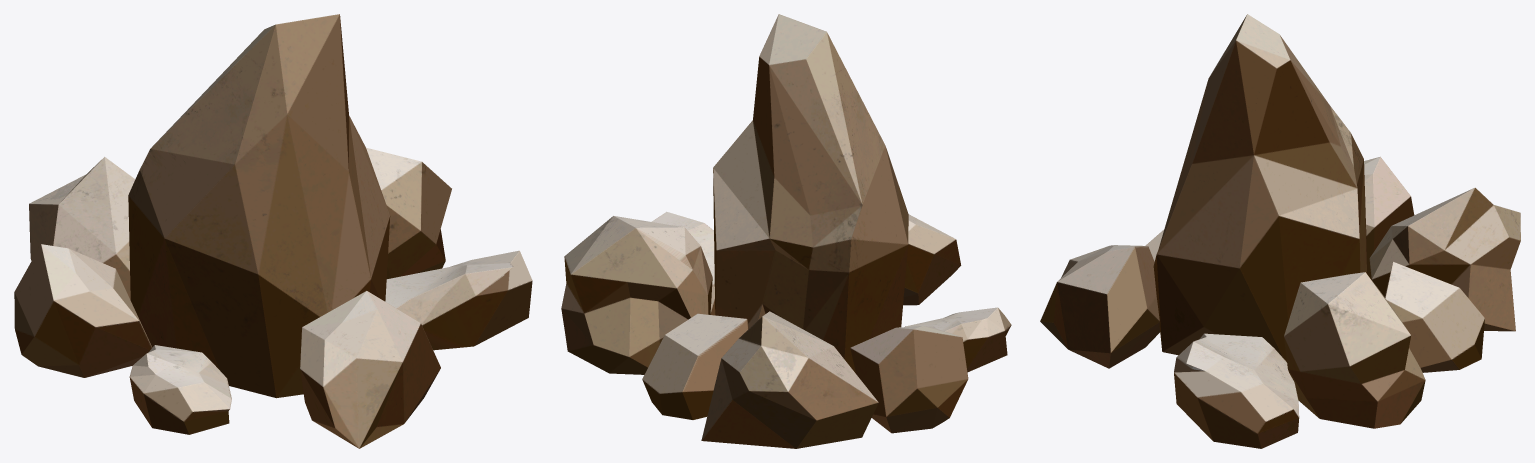
The model's file is rocks3.fbx.
3 renders of one model, left to right at view 1: azimuth 30°, elevation 25°; view 2: azimuth 150°, elevation 25°; view 3: azimuth 270°, elevation 25°, orthographic. The views are drawn at different scales.
Parts seen in each view (by area): view 1: node_id5; view 2: node_id5; view 3: node_id5.
Boxes of the visible parts, box(x1,y1,x2,y2) form: node_id5: box(14, 14, 532, 448); node_id5: box(561, 14, 1011, 448); node_id5: box(1040, 14, 1520, 448).
Size of the model in its own units: 0.512 by 0.3655 by 0.4968.
1 material, 1 textured.
